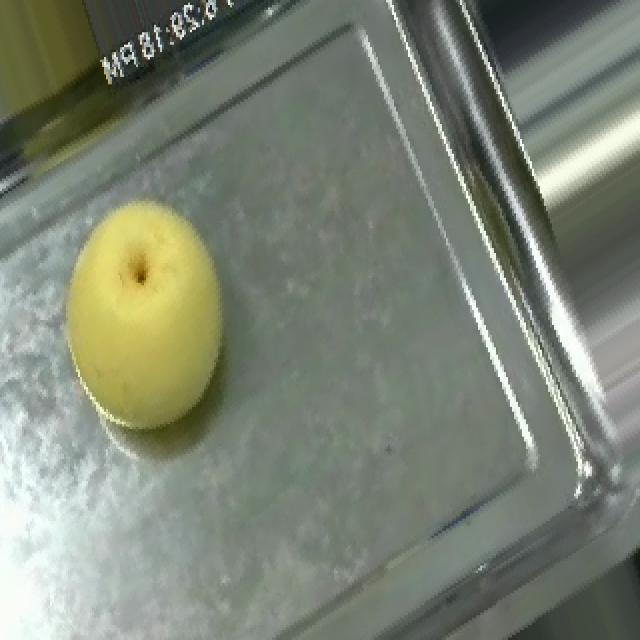Fruit: (30, 166, 258, 456), (0, 0, 126, 154)
